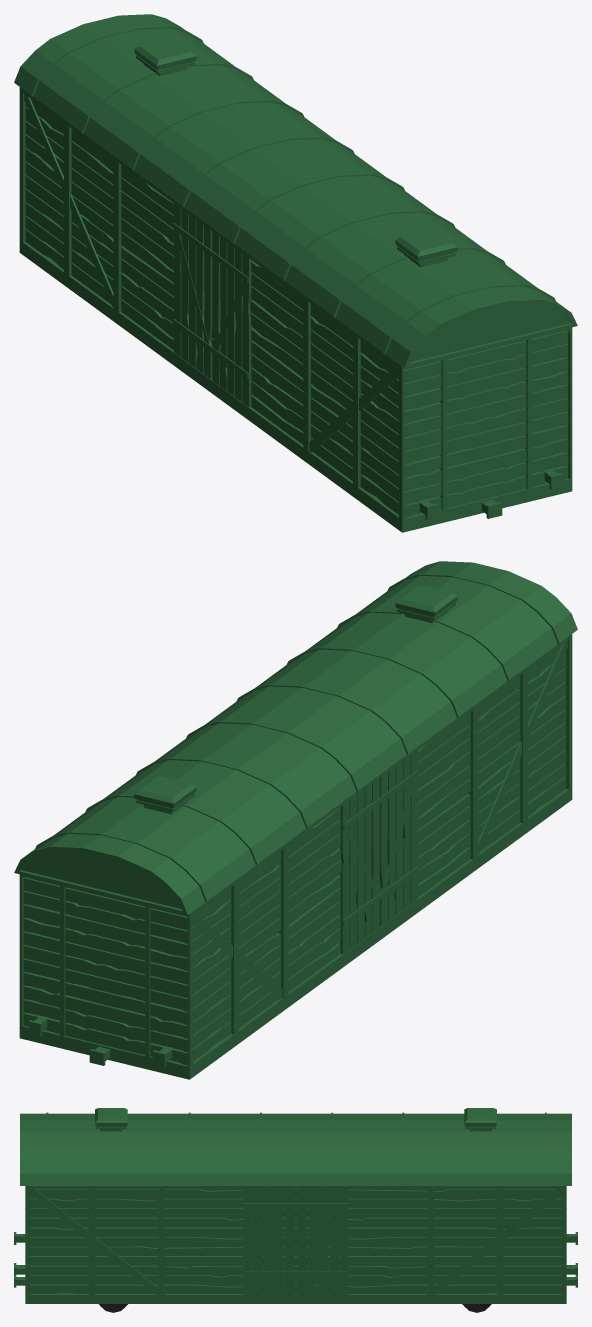
Rendered from goods-wagon.glb.
The picture shows the model from 3 angles, top to bottom: view 1: azimuth 30°, elevation 25°; view 2: azimuth 150°, elevation 25°; view 3: azimuth 270°, elevation 25°; orthographic projection. The views are drawn at different scales.
Parts seen in each view (by area): view 1: Locomotive_Wagon_Cube.012; view 2: Locomotive_Wagon_Cube.012; view 3: Locomotive_Wagon_Cube.012.
Boxes of the visible parts, x1=… form: Locomotive_Wagon_Cube.012: x1=14, y1=14, x2=577, y2=532; Locomotive_Wagon_Cube.012: x1=14, y1=561, x2=577, y2=1079; Locomotive_Wagon_Cube.012: x1=14, y1=1108, x2=577, y2=1303.
Bounding box in the file's own units: 2.07 × 2.95 × 8.06.
